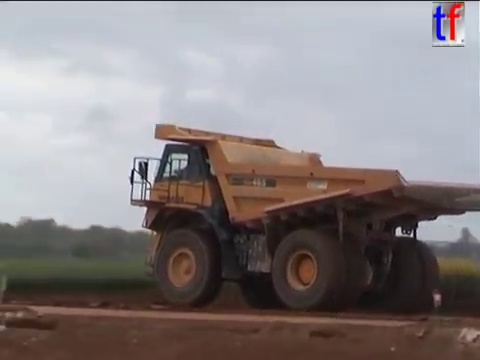truck: (126, 120, 480, 316)
